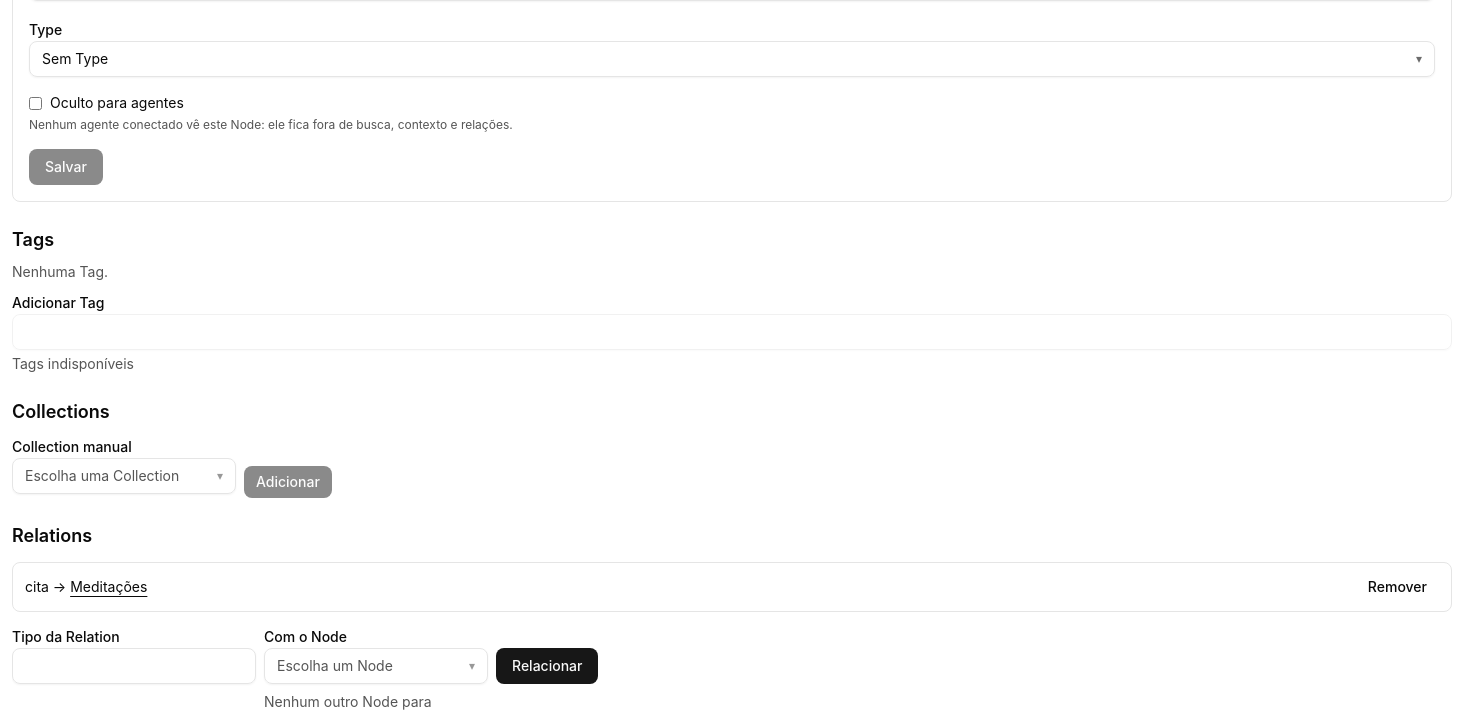
Test case: embedded node inspector › collections › adds the Node to a manual Collection and offers only manual ones
(page scrolled)
Click the dropdown named "Collection manual" at (124, 476), box top-left (12, 458), bottom-right (236, 494)
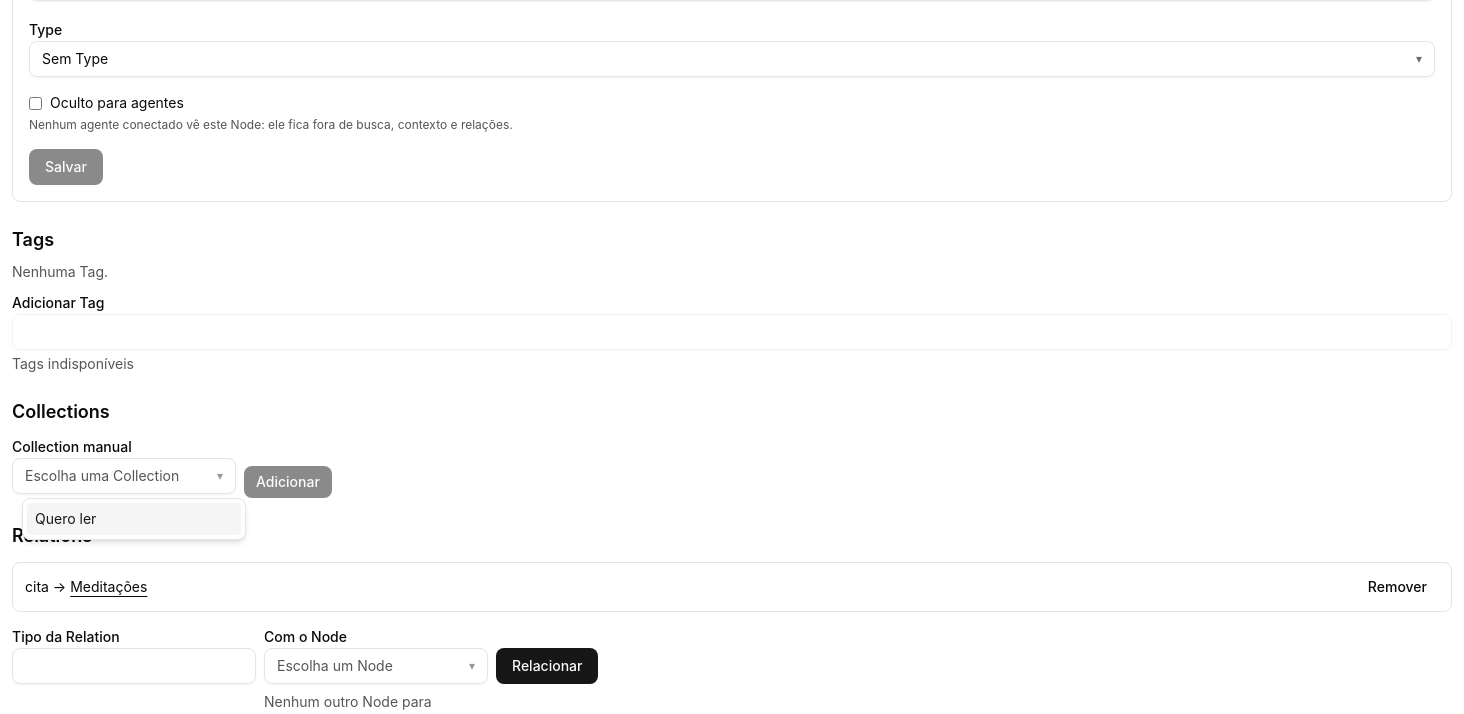
Click the option "Quero ler" at (134, 519), box top-left (27, 503), bottom-right (241, 535)
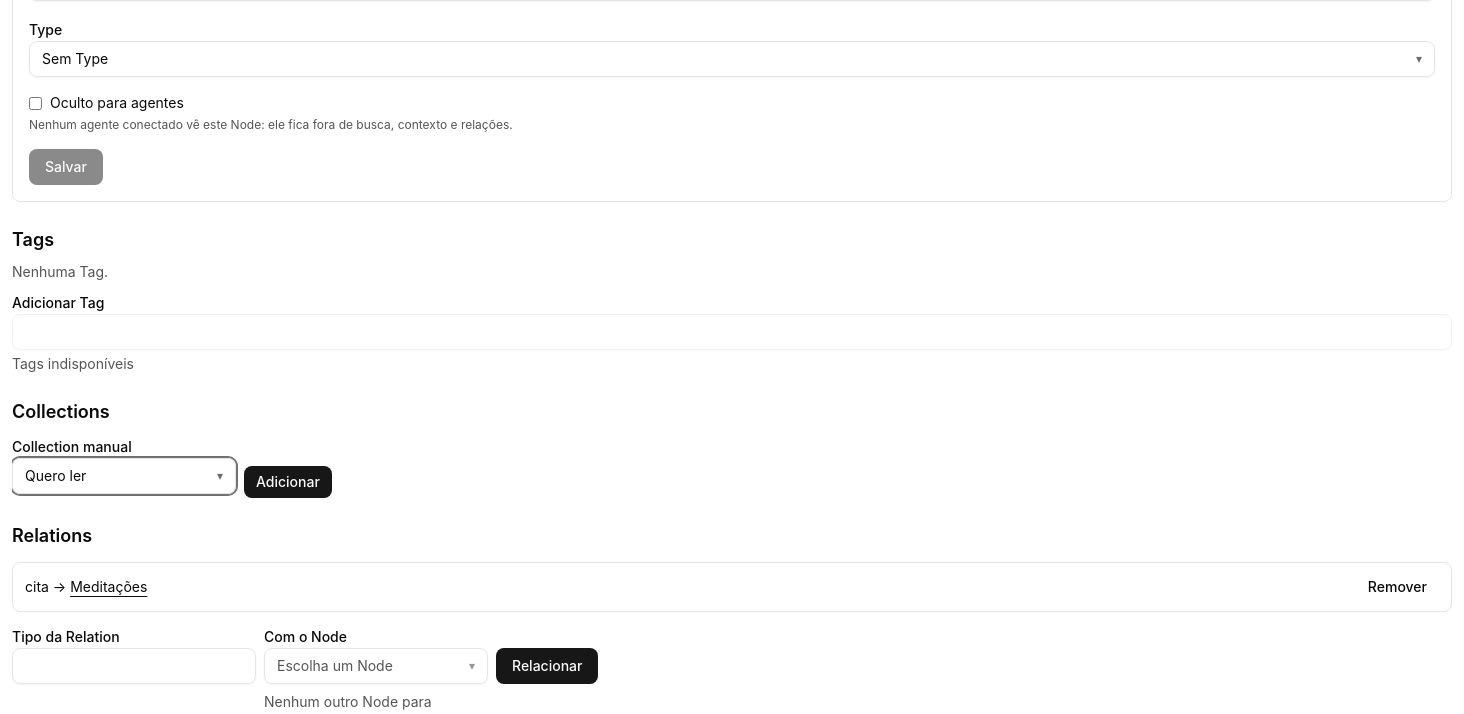
Click the button "Adicionar" at (288, 482), box top-left (244, 466), bottom-right (332, 498)
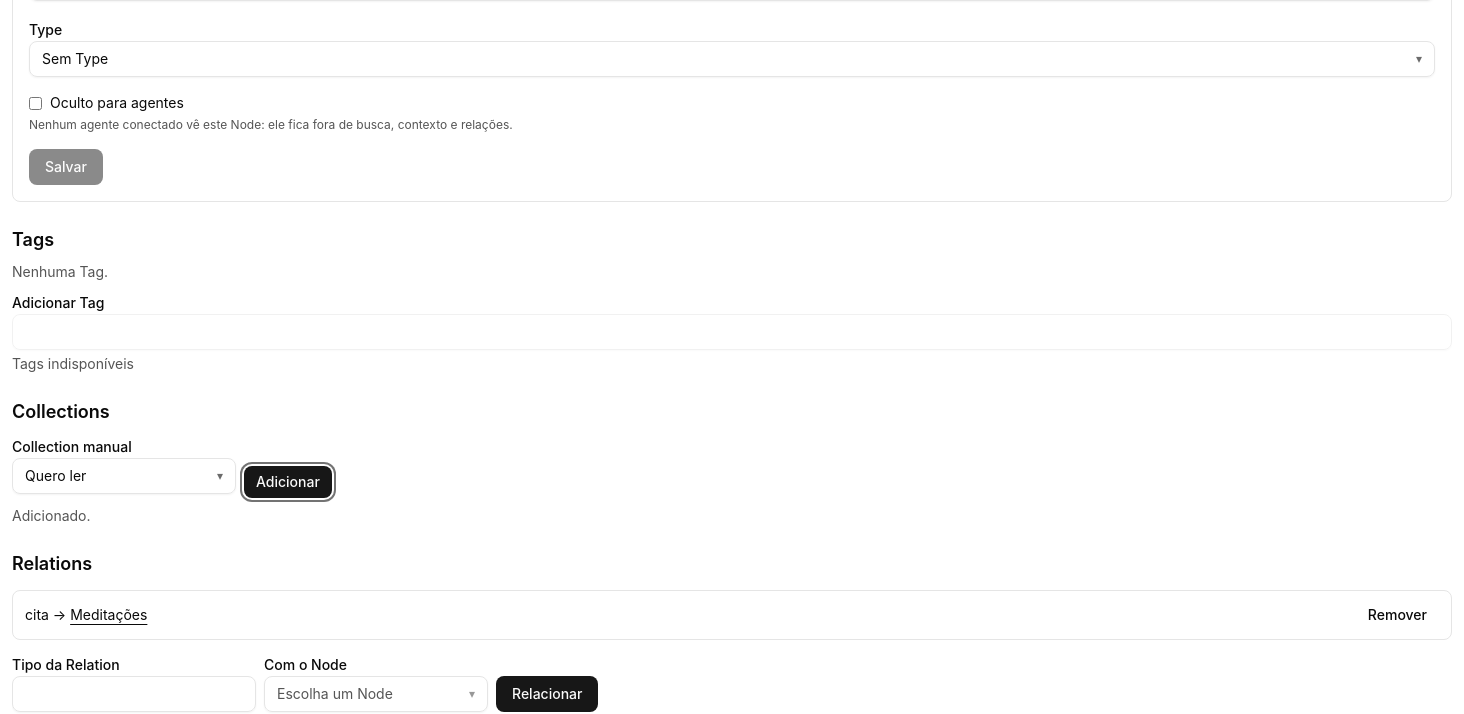
expect the text "Adicionado." is shown: met, box top-left (12, 507), bottom-right (90, 524)
